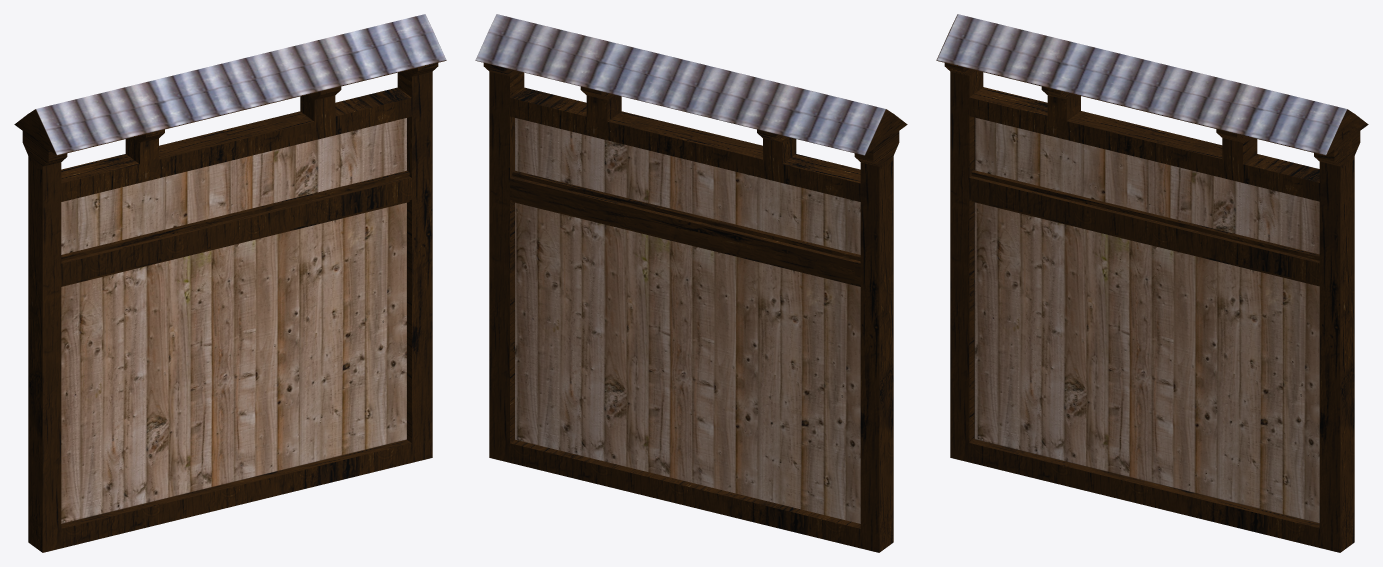
Rendered from NNJ0510053.fbx.
3 views of the same model, side by side, from view 1: azimuth 30°, elevation 25°; view 2: azimuth 150°, elevation 25°; view 3: azimuth 330°, elevation 25° (orthographic).
Visible parts, largest first — view 1: smNNJ0510053; view 2: smNNJ0510053; view 3: smNNJ0510053.
Boxes of the visible parts, box(x1,y1,x2,y2) form: smNNJ0510053: box(14, 14, 446, 552); smNNJ0510053: box(475, 14, 907, 552); smNNJ0510053: box(936, 14, 1368, 552).
Size of the model in its own units: 361 by 389 by 68.57.
Materials: 1 (1 with a texture image).
